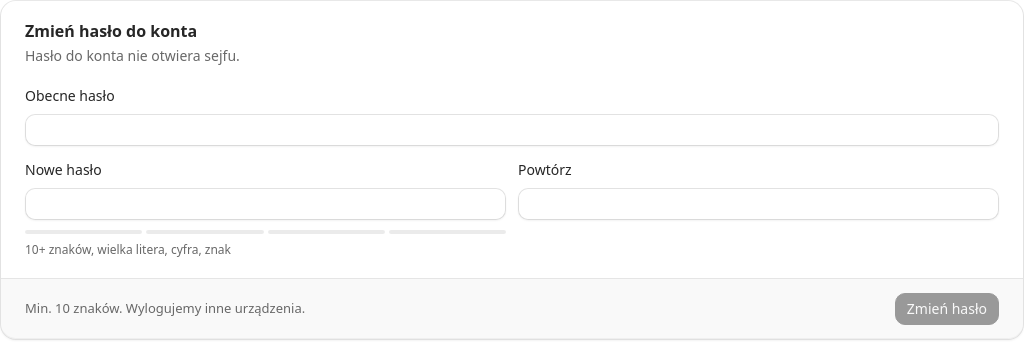
PasswordCard — konto z hasłem › siła „abcdefghij” → Słabe hasło (1 pasków)
This screenshot has width=1024, height=357.
In the password field labelled "Nowe hasło": (266, 204) [25, 188, 506, 220], type "abcdefghij"
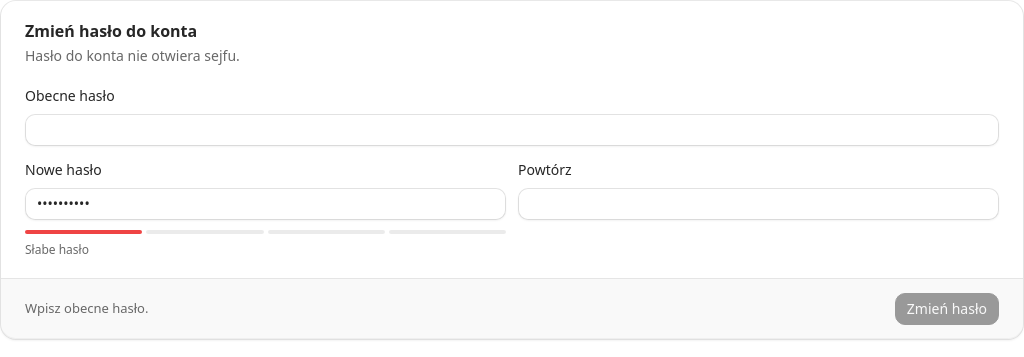
Result: the text "Słabe hasło" is shown at [25, 241, 89, 258]
